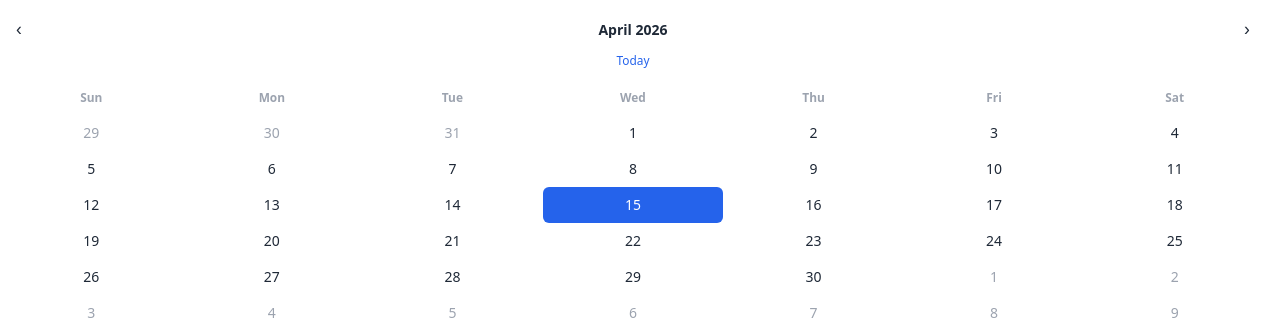
Test: CalendarWidget › navigates to next month
Click the button named "Next month" at (1247, 30), box [1229,12,1265,48]
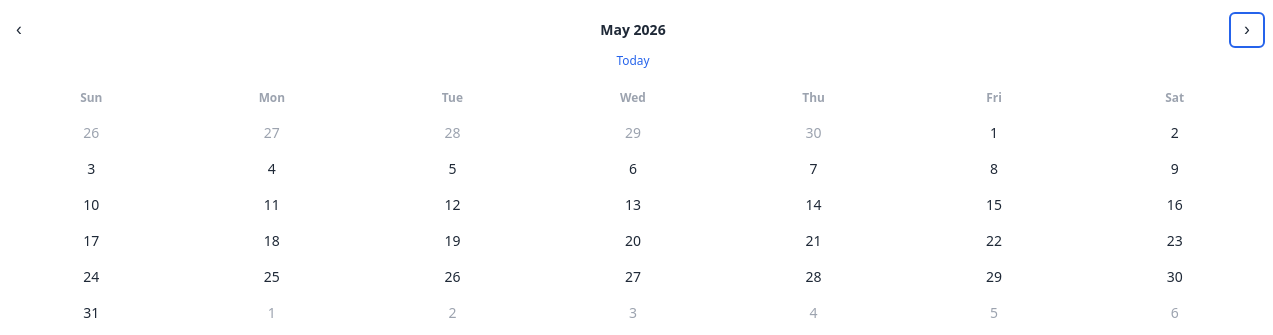
Check: the button "May 2026" is shown, box [592,19,674,41]
